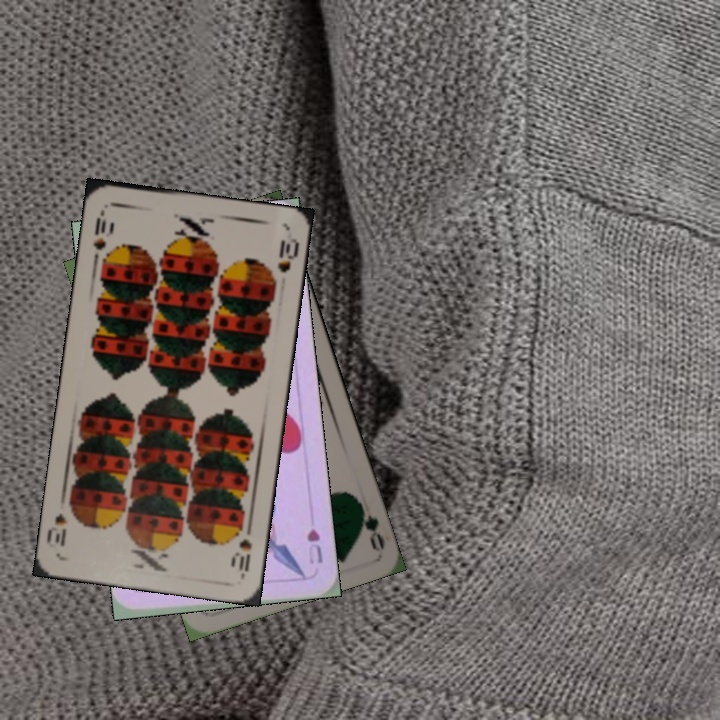GO: (352, 496, 387, 552)
HU: (303, 525, 326, 567)
S10: (229, 518, 255, 578), (89, 205, 109, 253)
